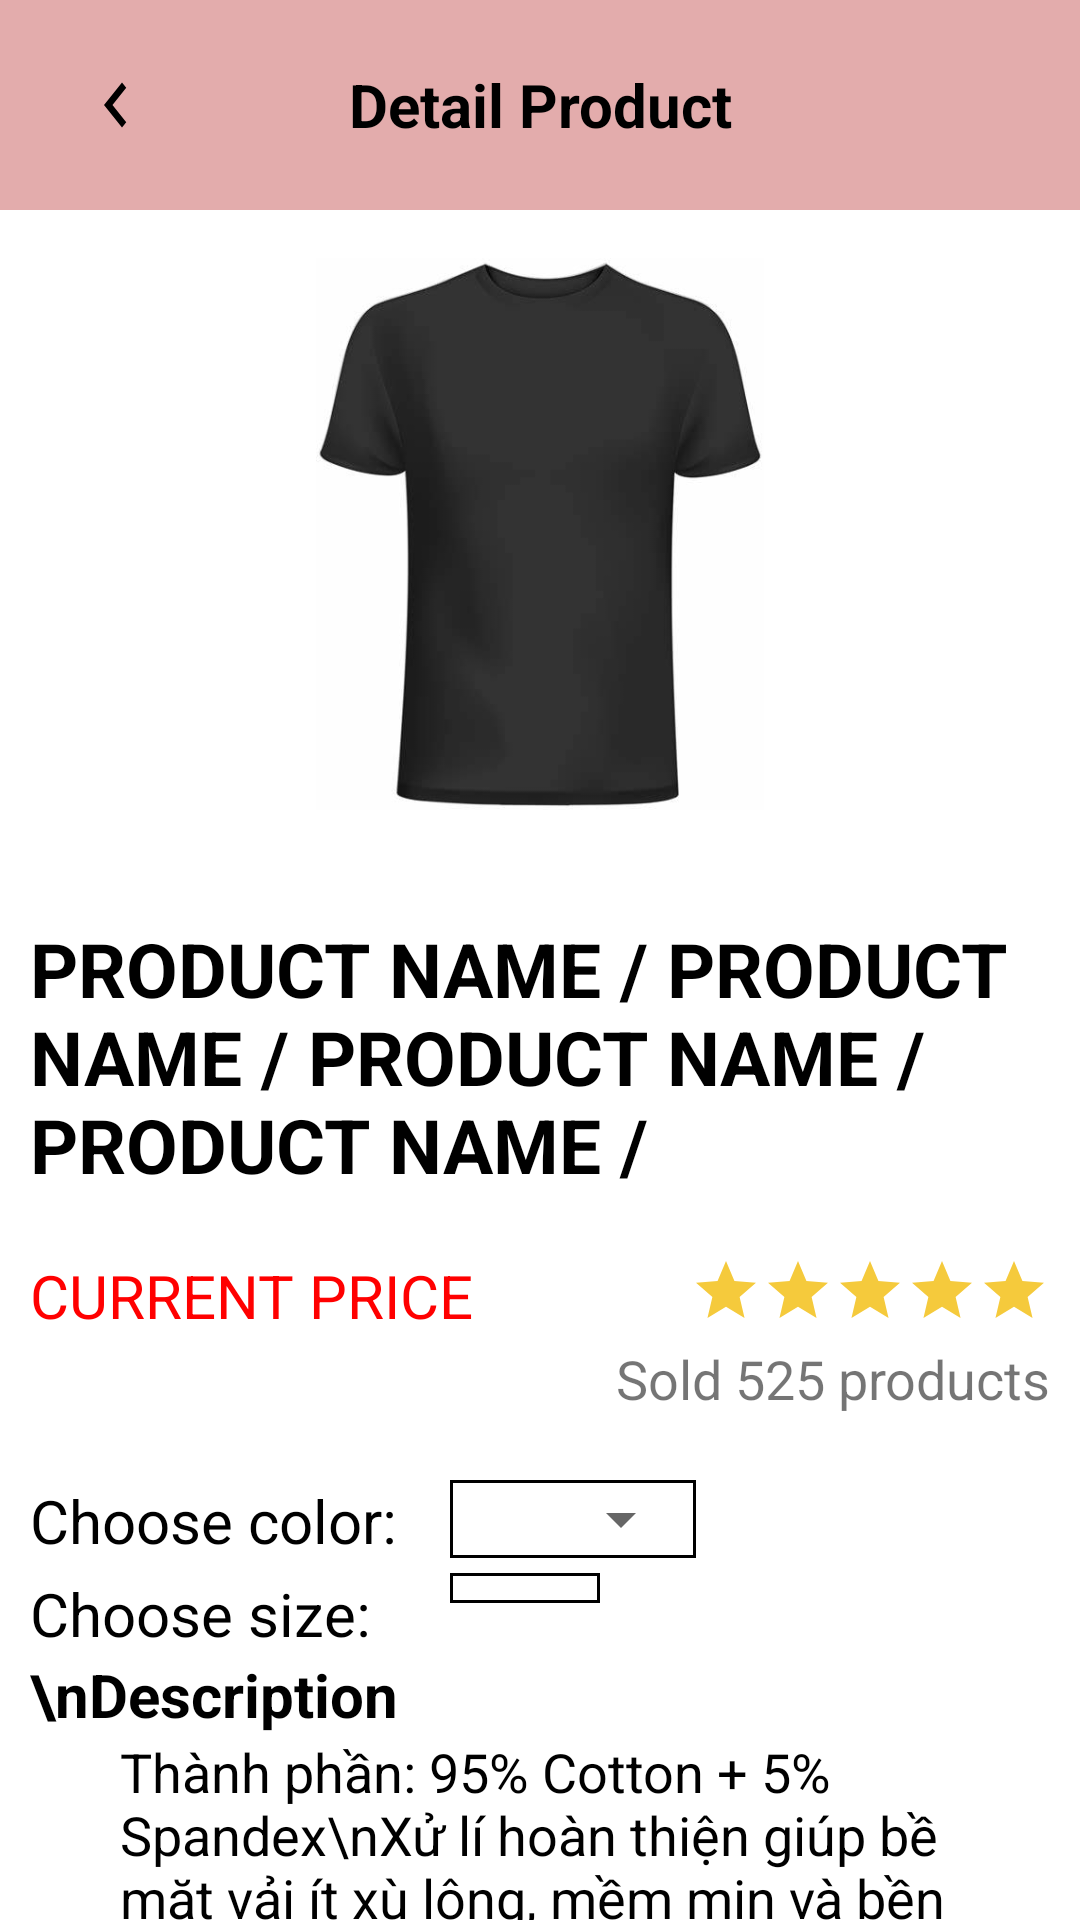

Icon bounding boxes for this 1080x1920 phone screenshot, format (x1, y1, x2, y2):
chevron left: (104, 83, 126, 127)
star: (696, 1261, 756, 1318), (768, 1261, 828, 1318), (840, 1261, 900, 1318), (912, 1261, 972, 1318), (984, 1261, 1044, 1318)
